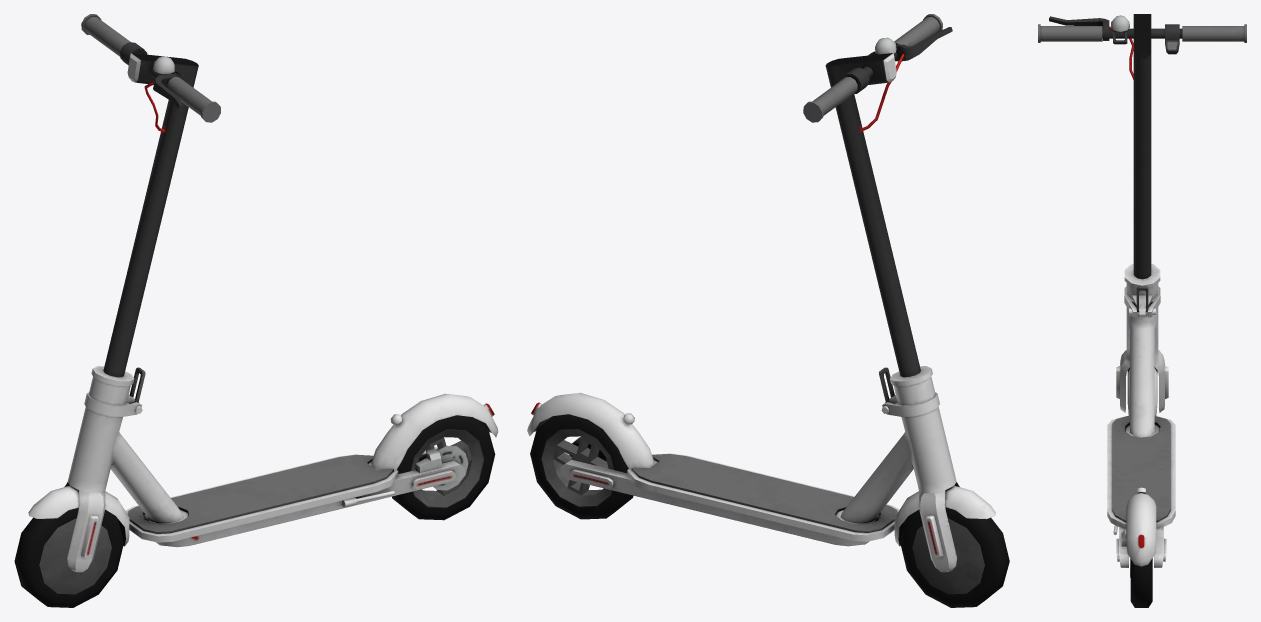
File: OBJ-e_scooter.glb
The picture shows the model from 3 angles, left to right: view 1: azimuth 30°, elevation 25°; view 2: azimuth 150°, elevation 25°; view 3: azimuth 270°, elevation 25°; orthographic projection. The views are drawn at different scales.
Visible parts, largest first — view 1: ElectricScooter; view 2: ElectricScooter; view 3: ElectricScooter.
Part boxes in pixels (box(x1,y1,x2,y2)): ElectricScooter: box(14, 14, 498, 607); ElectricScooter: box(527, 14, 1009, 607); ElectricScooter: box(1038, 14, 1246, 607).
Bounding box in the file's own units: 1.07 × 1.15 × 0.4678.
Materials: 1 (1 with a texture image).
